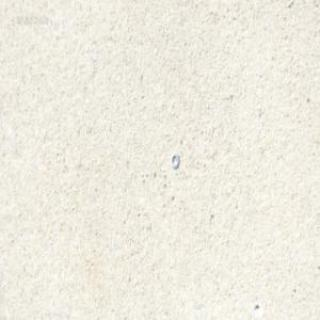Washertrack_idkeyframe: (170, 152, 178, 168)
